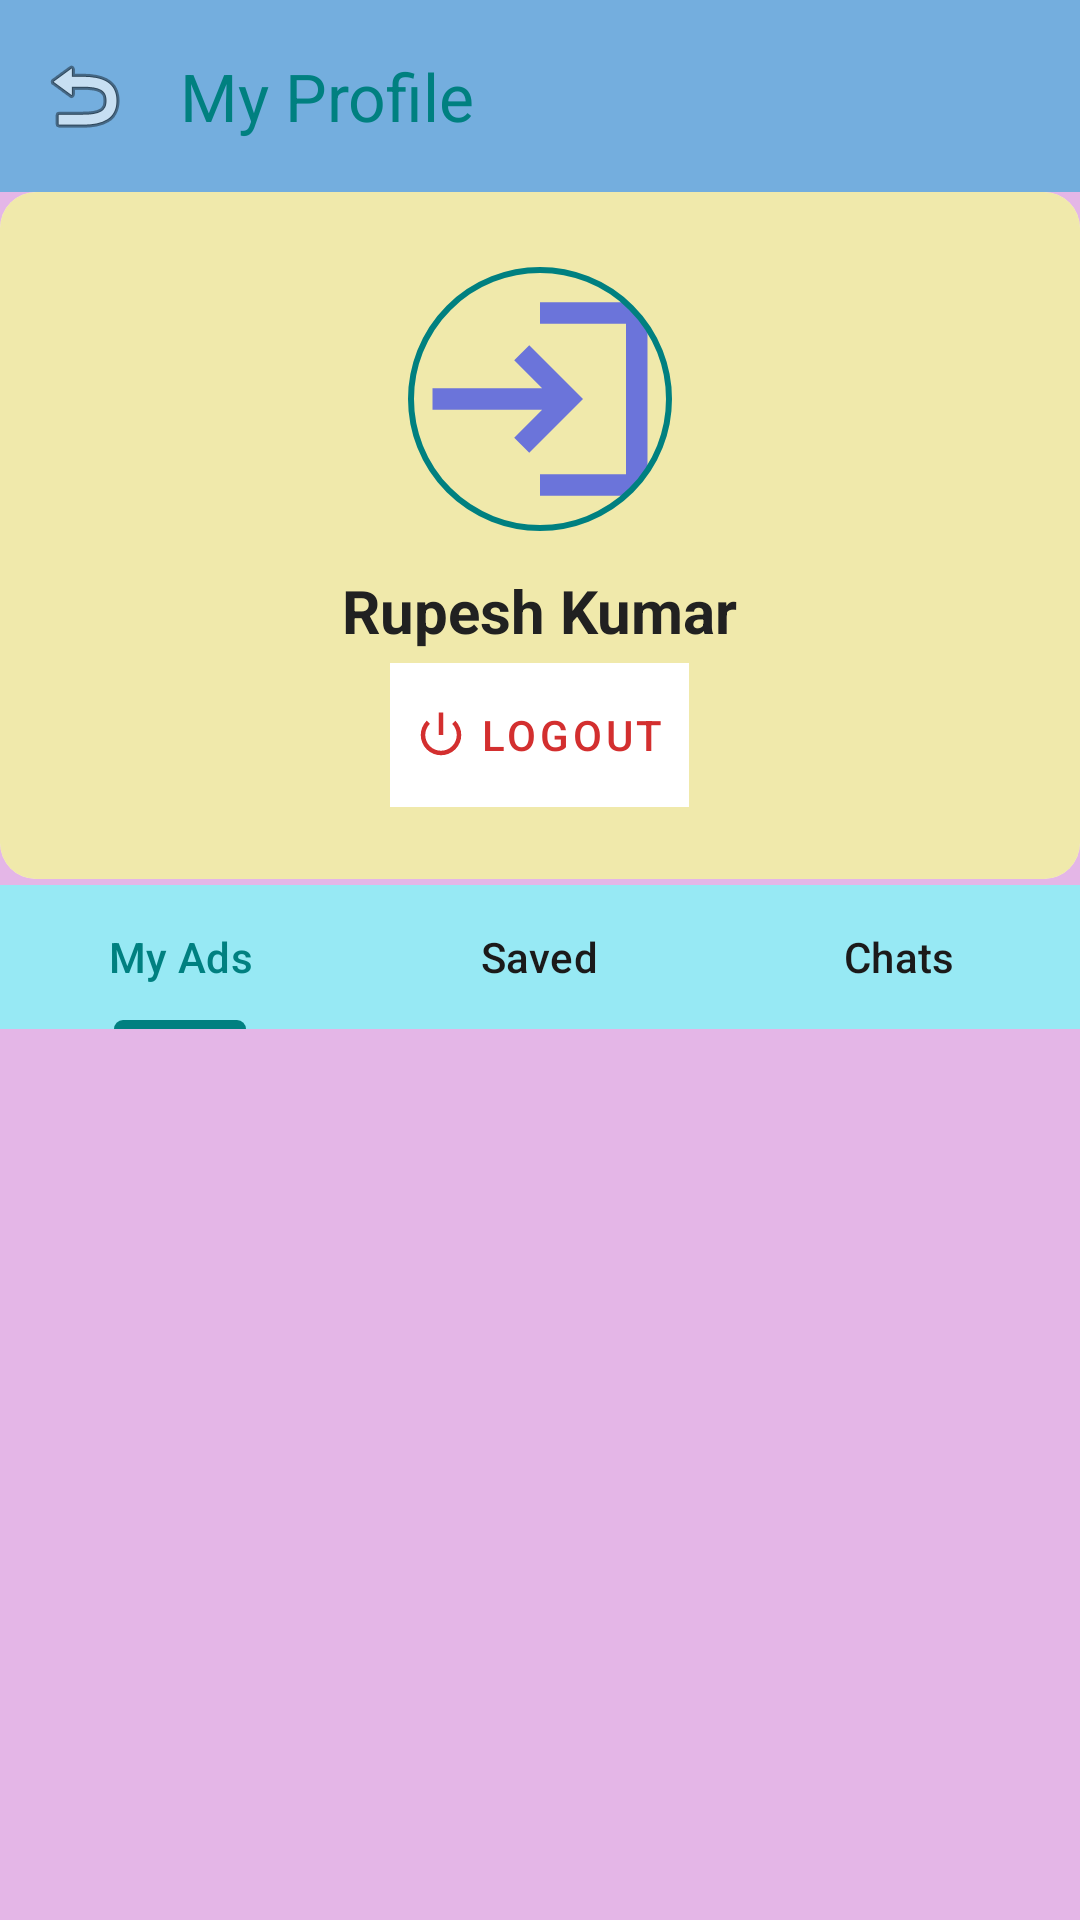

Named icons in this screenshot (1080w x 1920h) and their centers, point (x, y):
login: point (540, 399)
